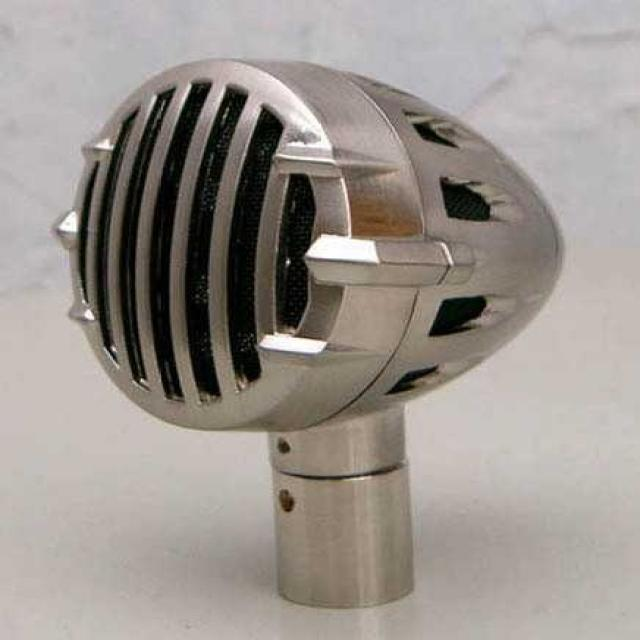microphone: (44, 56, 574, 432)
